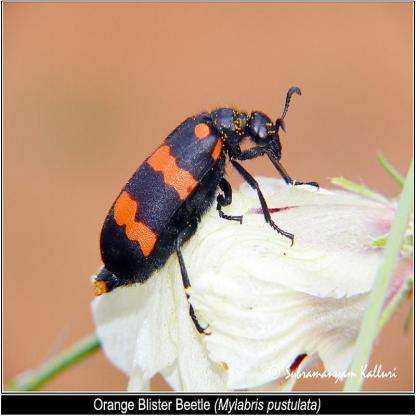beetle: (87, 89, 307, 308)
